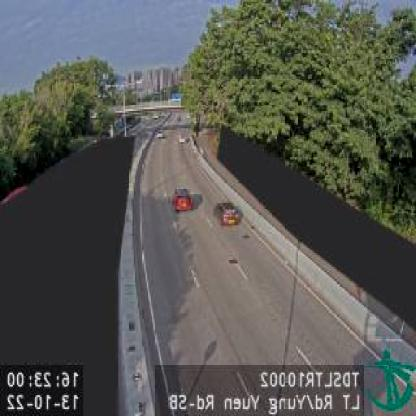Car: (216, 200, 241, 225), (174, 187, 191, 211)
